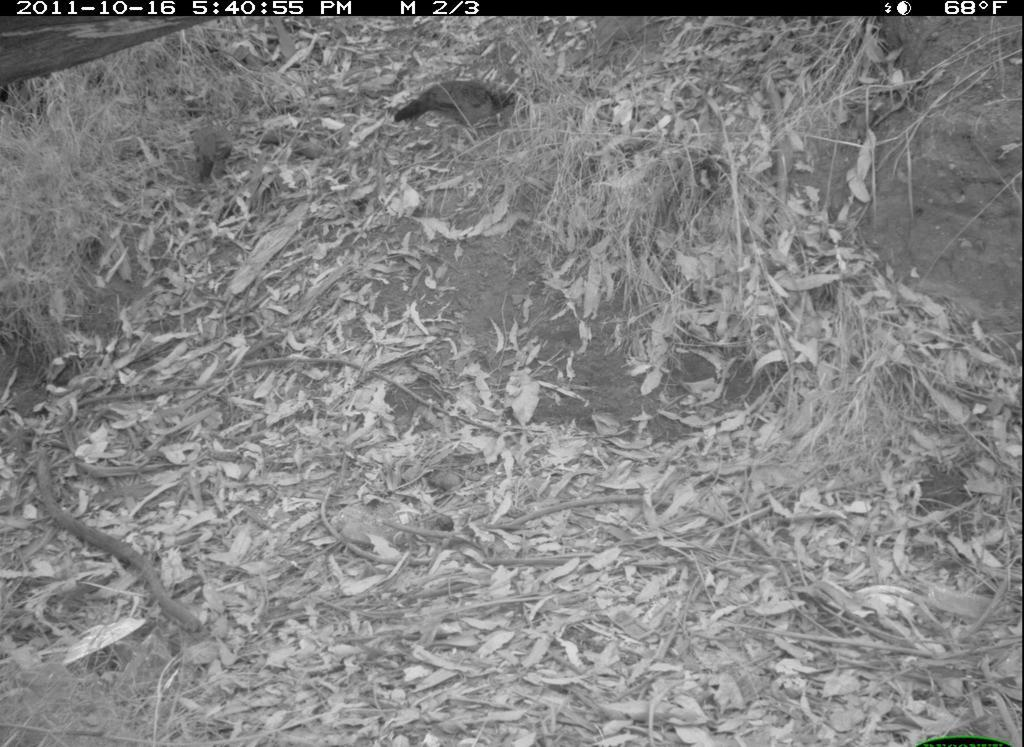bird: (392, 77, 520, 142)
